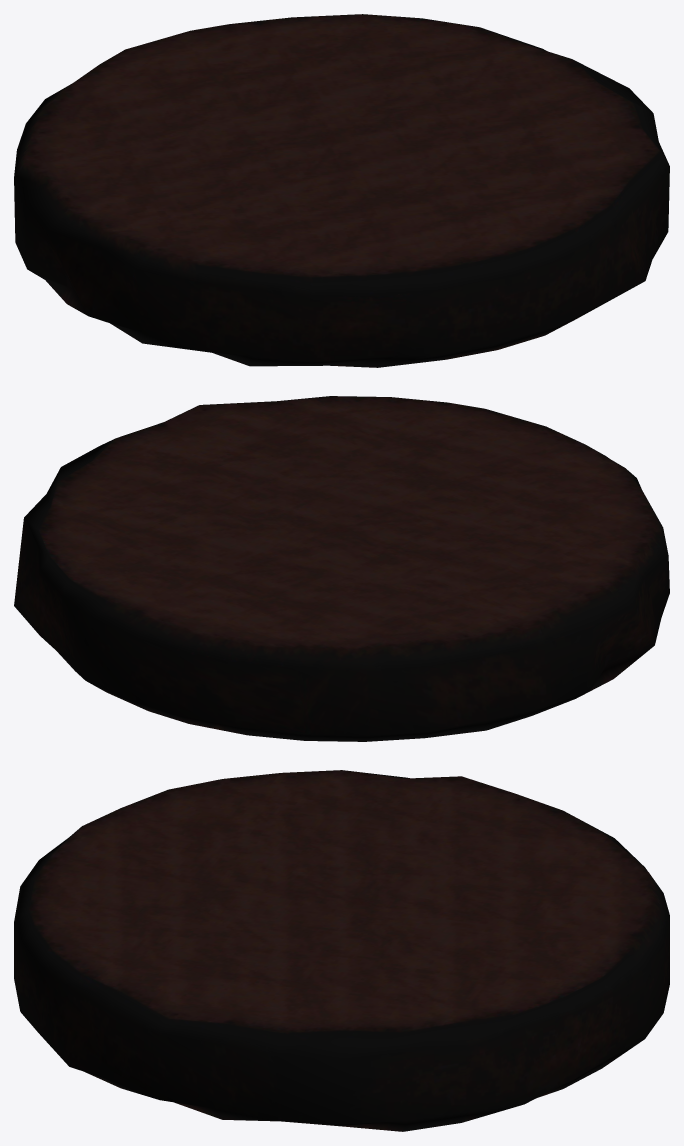
The model's file is MeatPattyBurned_Visual.glb.
3 renders of one model, top to bottom at view 1: azimuth 30°, elevation 25°; view 2: azimuth 150°, elevation 25°; view 3: azimuth 270°, elevation 25°, orthographic. The views are drawn at different scales.
Visible parts, largest first — view 1: Burned meat patty; view 2: Burned meat patty; view 3: Burned meat patty.
Part boxes in pixels (bbox=[...]): Burned meat patty: bbox=[14, 14, 669, 367]; Burned meat patty: bbox=[14, 396, 669, 741]; Burned meat patty: bbox=[14, 770, 669, 1131].
Bounding box in the file's own units: 0.7156 × 0.1083 × 0.6909.
Materials: 1 (1 with a texture image).
